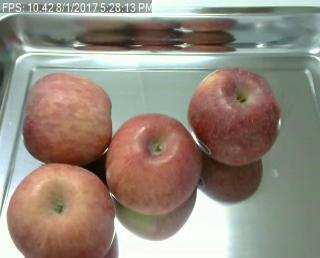apple: (7, 163, 114, 256), (106, 112, 201, 214), (187, 67, 281, 165), (22, 72, 112, 164)
